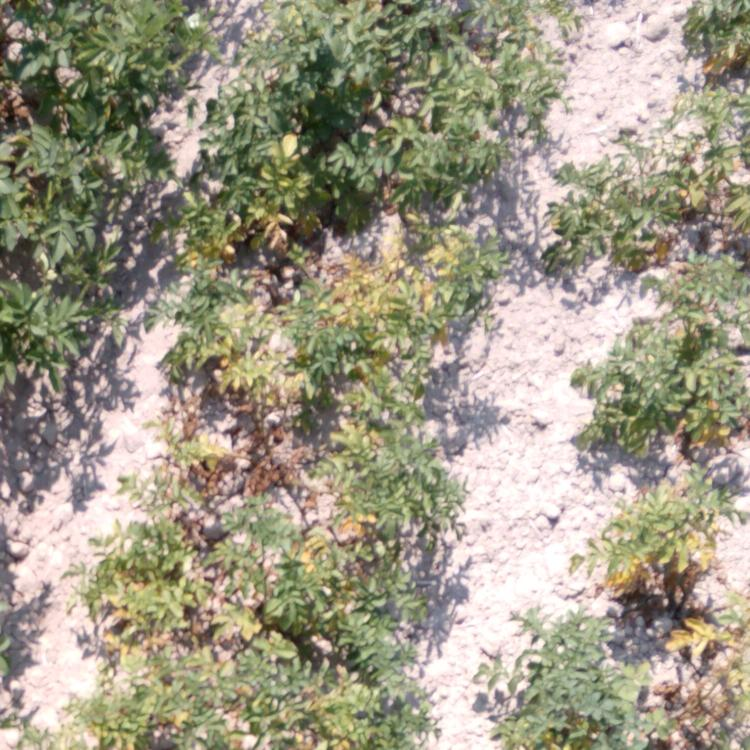healthy: (1, 196, 99, 383), (1, 88, 159, 199), (1, 1, 191, 86)
stressed: (162, 223, 498, 411), (83, 515, 455, 661), (495, 608, 750, 749), (178, 110, 501, 219), (224, 2, 557, 106), (75, 657, 435, 750), (139, 415, 453, 511), (533, 138, 745, 270), (583, 467, 743, 607), (665, 271, 750, 445), (665, 1, 750, 140), (580, 308, 663, 448)
